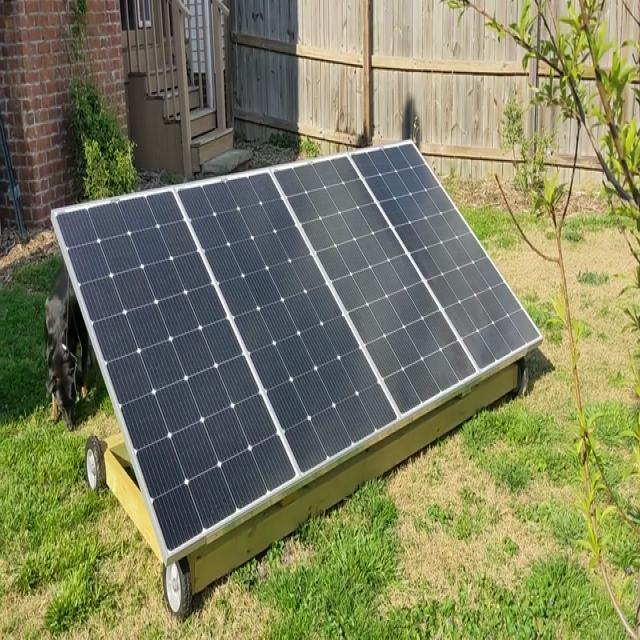Normal Solar Panel: (57, 140, 543, 558)
